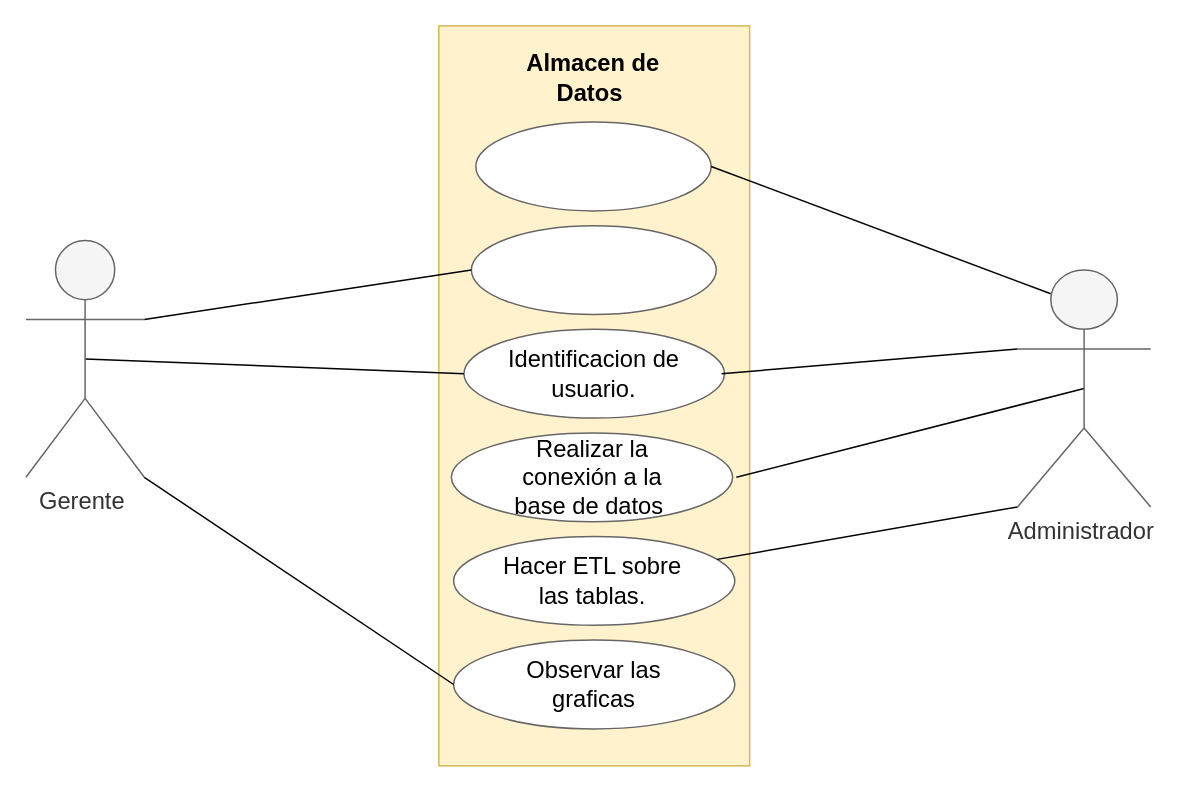
The diagram is 1185 pixels wide and 792 high, and some of its shapes have lost their labels. The shapes that lost their labels are listed below. From the top down, each one's centre as x and y in pixels, then its label:
At [592,166]: "Interfaz para administrador".
At [593,269]: "Interfaz para gerente".
